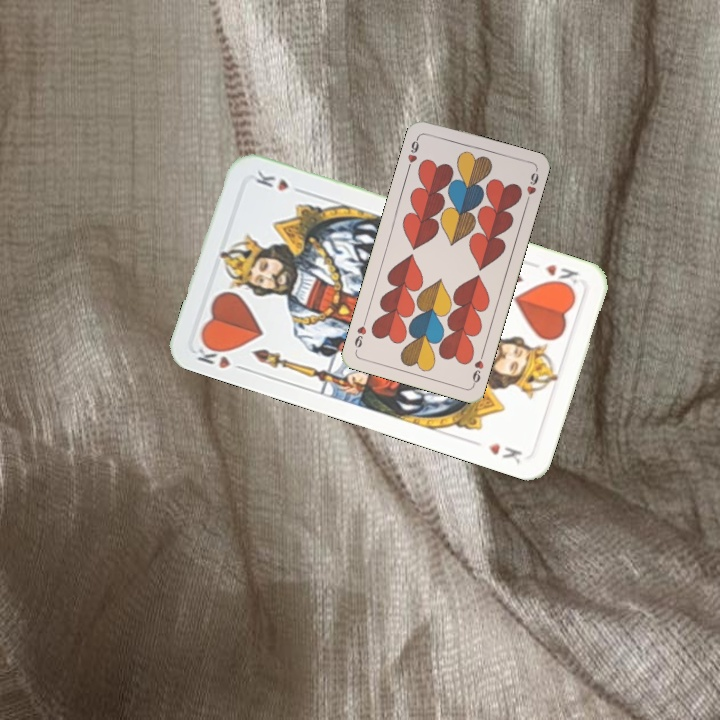H9: (468, 348, 487, 388), (403, 132, 422, 172)
HK: (192, 338, 249, 374), (541, 260, 581, 293)
